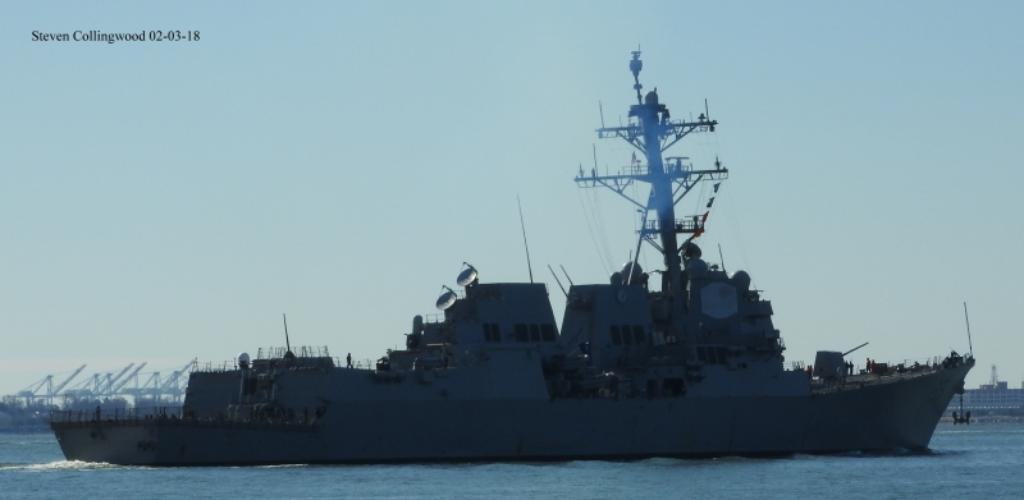Warship: (45, 45, 975, 469)
